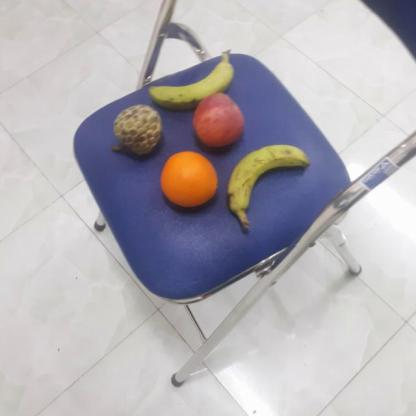annona: (115, 102, 167, 155)
apple: (188, 92, 246, 150)
banana: (224, 146, 312, 214), (142, 54, 236, 108)
orange: (160, 149, 219, 210)
